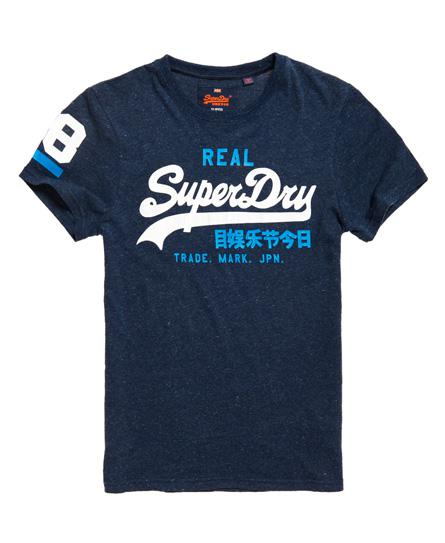teeshirt: (22, 47, 441, 513)
